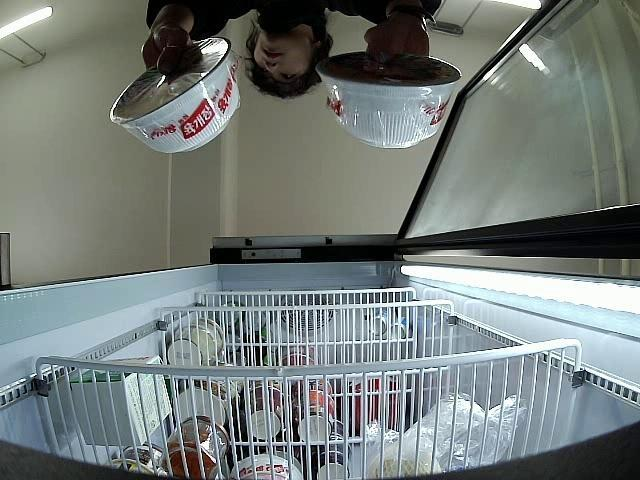09_yukGaeJang: (110, 38, 242, 158), (316, 52, 461, 149)
